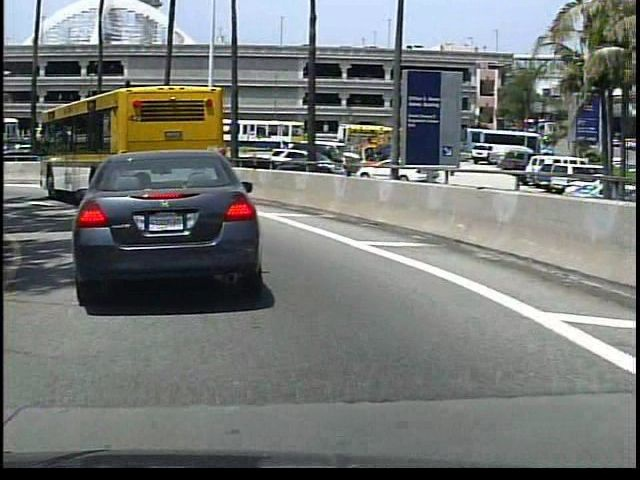person: (320, 145, 332, 168)
